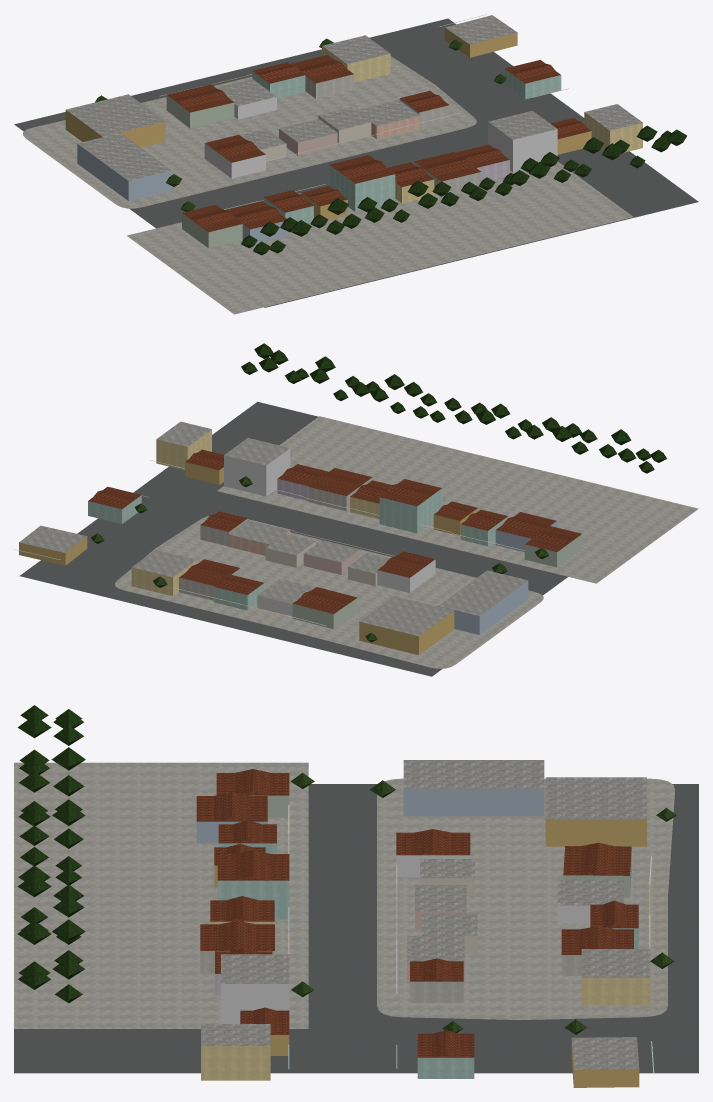
File: cidade_S04_00_lod.gltf
3 renders of one model, top to bottom at view 1: azimuth 30°, elevation 25°; view 2: azimuth 150°, elevation 25°; view 3: azimuth 270°, elevation 25°, orthographic. The views are drawn at different scales.
Visible parts, largest first — view 1: S04_00_Chao_LOD2, S04_00_Edificios_LOD1, S04_00_Silhueta_LOD2, S04_00_Vegetacao_LOD2; view 2: S04_00_Chao_LOD2, S04_00_Edificios_LOD1, S04_00_Silhueta_LOD2, S04_00_Vegetacao_LOD2; view 3: S04_00_Chao_LOD2, S04_00_Edificios_LOD1, S04_00_Silhueta_LOD2, S04_00_Vegetacao_LOD2.
Part boxes in pixels (x1,y1,x2,y2): S04_00_Chao_LOD2: (14, 18, 698, 314); S04_00_Edificios_LOD1: (65, 14, 642, 248); S04_00_Silhueta_LOD2: (166, 55, 591, 247); S04_00_Vegetacao_LOD2: (95, 38, 686, 255); S04_00_Chao_LOD2: (19, 401, 698, 676); S04_00_Edificios_LOD1: (14, 421, 582, 654); S04_00_Silhueta_LOD2: (88, 449, 582, 627); S04_00_Vegetacao_LOD2: (91, 343, 666, 642); S04_00_Chao_LOD2: (14, 762, 698, 1073); S04_00_Edificios_LOD1: (196, 760, 654, 1087); S04_00_Silhueta_LOD2: (196, 773, 638, 1078); S04_00_Vegetacao_LOD2: (17, 705, 676, 1034).
Bounding box in the file's own units: 112 × 15.99 × 100.
18 materials, 18 textured.
